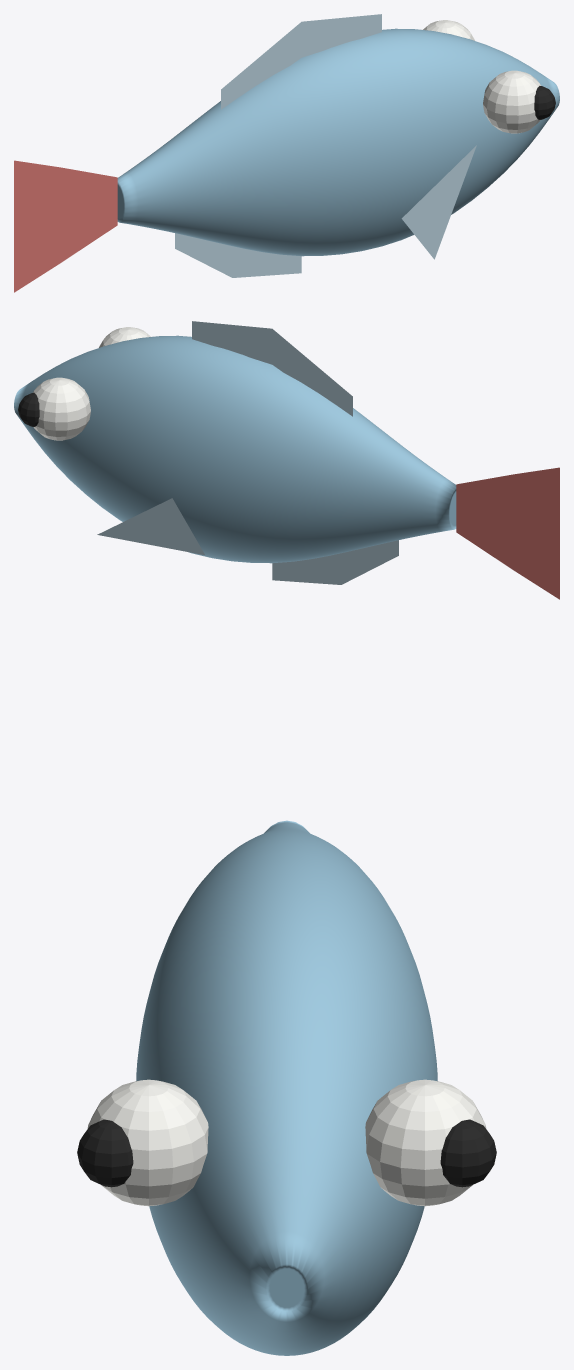
Rendered from cardinal.glb.
The picture shows the model from 3 angles, top to bottom: view 1: azimuth 30°, elevation 25°; view 2: azimuth 150°, elevation 25°; view 3: azimuth 270°, elevation 25°; orthographic projection. The views are drawn at different scales.
Parts seen in each view (by area): view 1: cardinal_body, cardinal_tail, cardinal_dorsal, cardinal_anal, cardinal_eyew_R, cardinal_pec_R, cardinal_eye_R, cardinal_eyew_L; view 2: cardinal_body, cardinal_tail, cardinal_dorsal, cardinal_anal, cardinal_eyew_L, cardinal_pec_L, cardinal_eye_L, cardinal_eyew_R; view 3: cardinal_body, cardinal_eyew_L, cardinal_eyew_R, cardinal_eye_L, cardinal_eye_R.
Boxes of the visible parts, box(x1,y1,x2,y2) form: cardinal_body: box(117, 28, 559, 256); cardinal_tail: box(14, 160, 117, 292); cardinal_dorsal: box(221, 14, 381, 109); cardinal_anal: box(175, 233, 301, 277); cardinal_eyew_R: box(483, 70, 540, 133); cardinal_pec_R: box(401, 145, 476, 259); cardinal_eye_R: box(534, 86, 555, 119); cardinal_eyew_L: box(423, 20, 474, 40); cardinal_body: box(14, 335, 456, 563); cardinal_tail: box(456, 467, 559, 599); cardinal_dorsal: box(192, 321, 352, 416); cardinal_anal: box(272, 540, 398, 584); cardinal_eyew_L: box(33, 377, 90, 440); cardinal_pec_L: box(97, 498, 204, 555); cardinal_eye_L: box(18, 393, 39, 426); cardinal_eyew_R: box(99, 327, 150, 347); cardinal_body: box(136, 820, 437, 1355); cardinal_eyew_L: box(365, 1079, 486, 1206); cardinal_eyew_R: box(87, 1079, 208, 1206); cardinal_eye_L: box(440, 1119, 496, 1187); cardinal_eye_R: box(77, 1119, 133, 1187).
Size of the model in its own units: 0.47 by 0.209 by 0.158.
